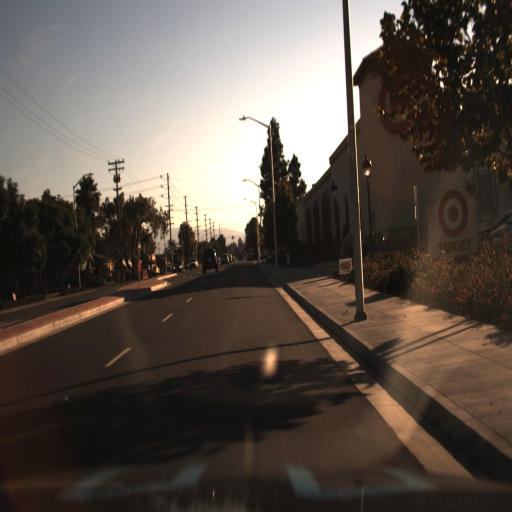car: (198, 243, 221, 278), (170, 259, 186, 276), (187, 258, 199, 274)
